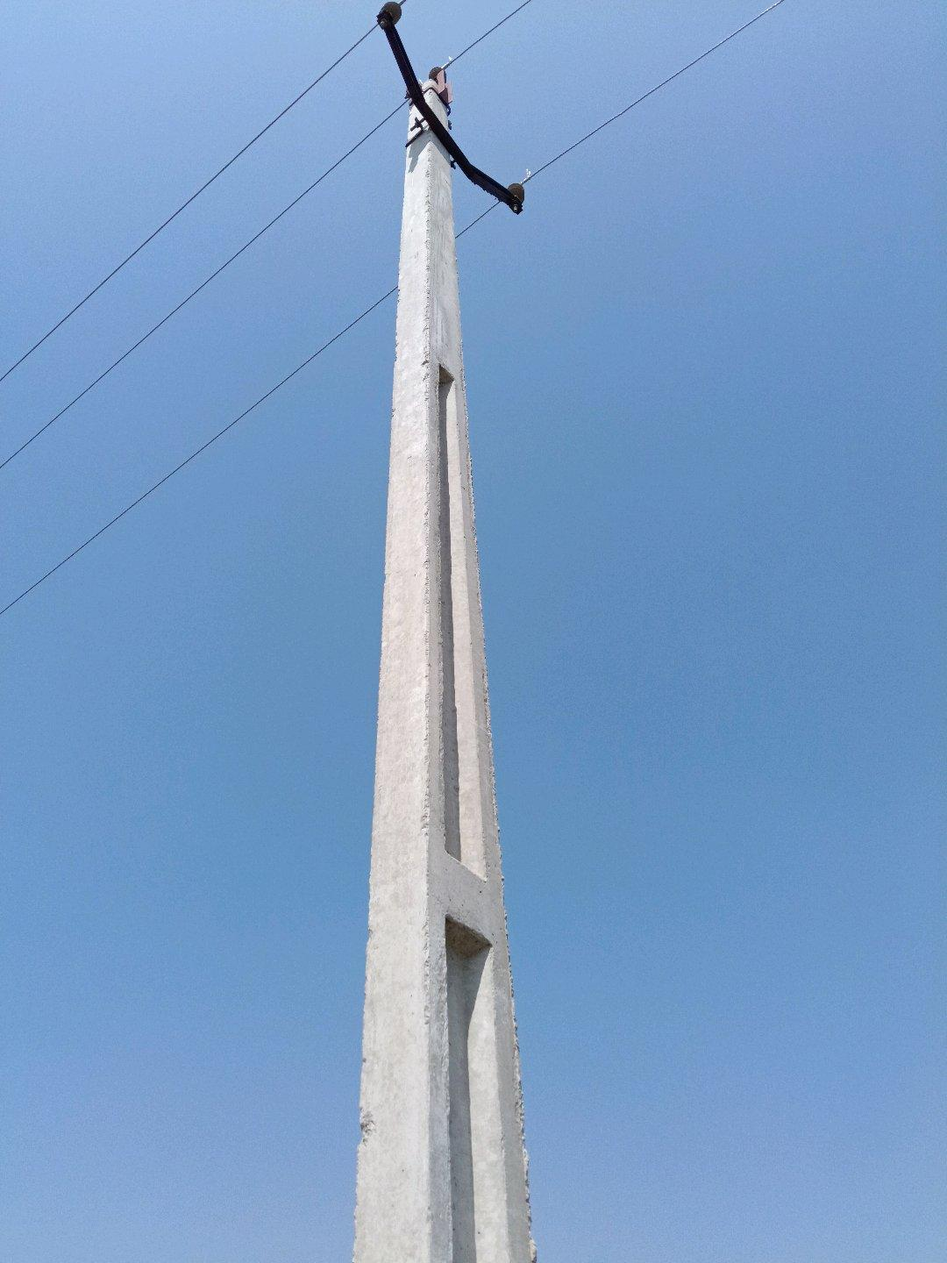{"0" "insulator", "1" "pole", "2" "crossarm", "3" "conductor", "4" "street_: (352, 4, 535, 1262)
